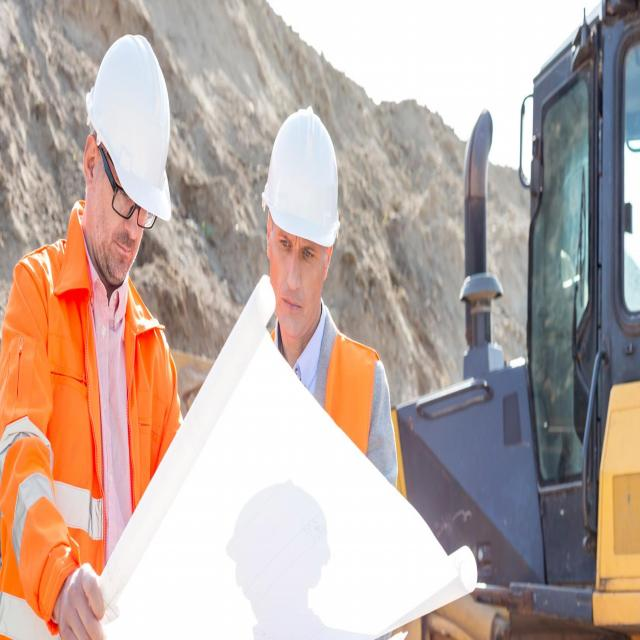Reflective-Jacket: (0, 229, 182, 635)
Safety-Helmet: (86, 28, 175, 225), (261, 97, 344, 247)
